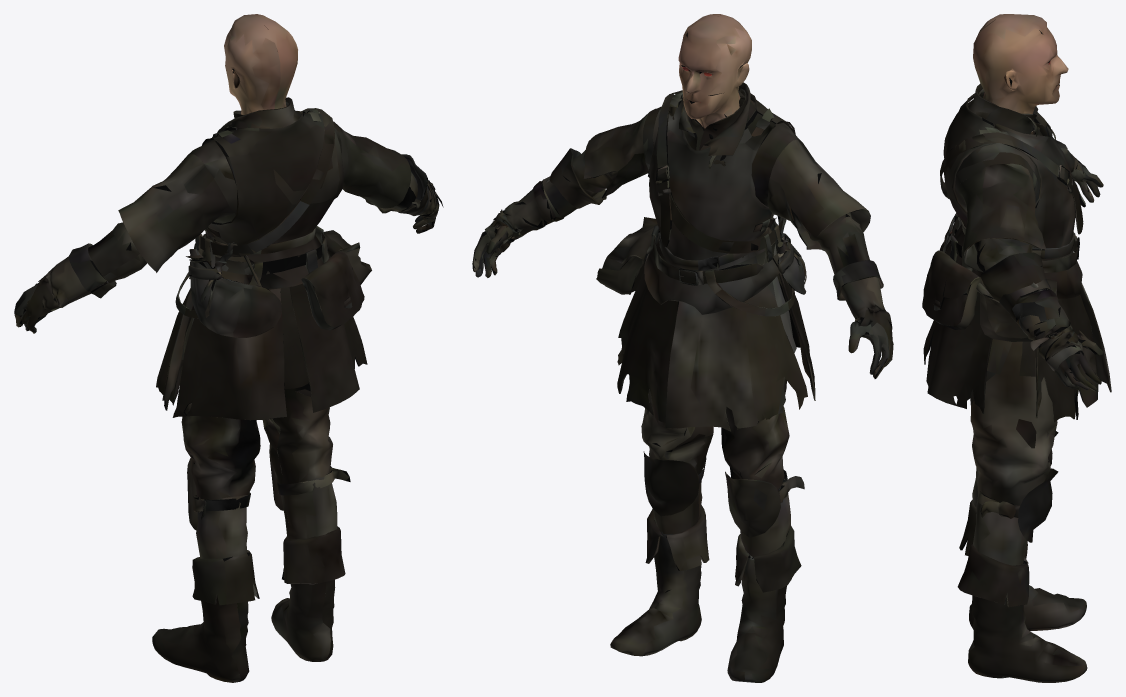
3 renders of one model, left to right at view 1: azimuth 30°, elevation 25°; view 2: azimuth 150°, elevation 25°; view 3: azimuth 270°, elevation 25°, orthographic.
Parts seen in each view (by area): view 1: mesh_0; view 2: mesh_0; view 3: mesh_0.
Boxes of the visible parts, x1,y1,x2,y2 form: mesh_0: (14,14,443,682); mesh_0: (472,14,893,682); mesh_0: (922,14,1111,682).
Size of the model in its own units: 50.22 by 73.15 by 19.8.
1 material, 1 textured.
